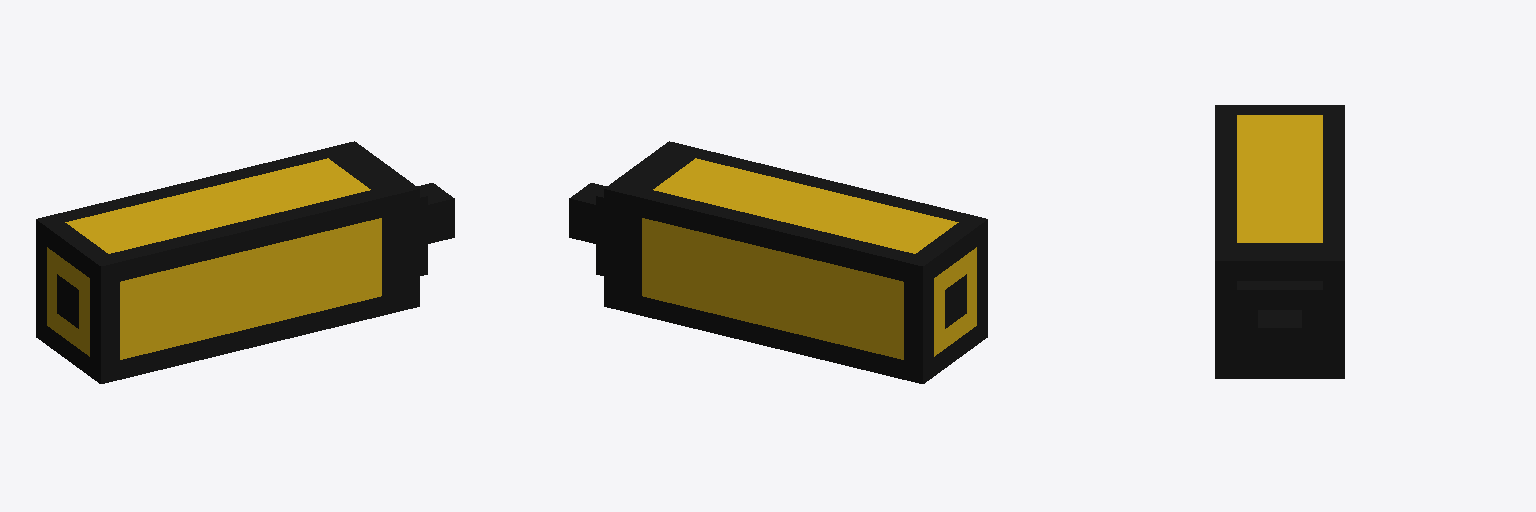
3 renders of one model, left to right at view 1: azimuth 30°, elevation 25°; view 2: azimuth 150°, elevation 25°; view 3: azimuth 270°, elevation 25°, orthographic.
Visible parts, largest first — view 1: object 1; view 2: object 1; view 3: object 1.
Part boxes in pixels (x1,y1,x2,y2): object 1: (36,141,454,383); object 1: (569,141,987,383); object 1: (1215,105,1344,378).
Size of the model in its own units: 2 by 0.6 by 0.6.
Materials: 1 (1 with a texture image).